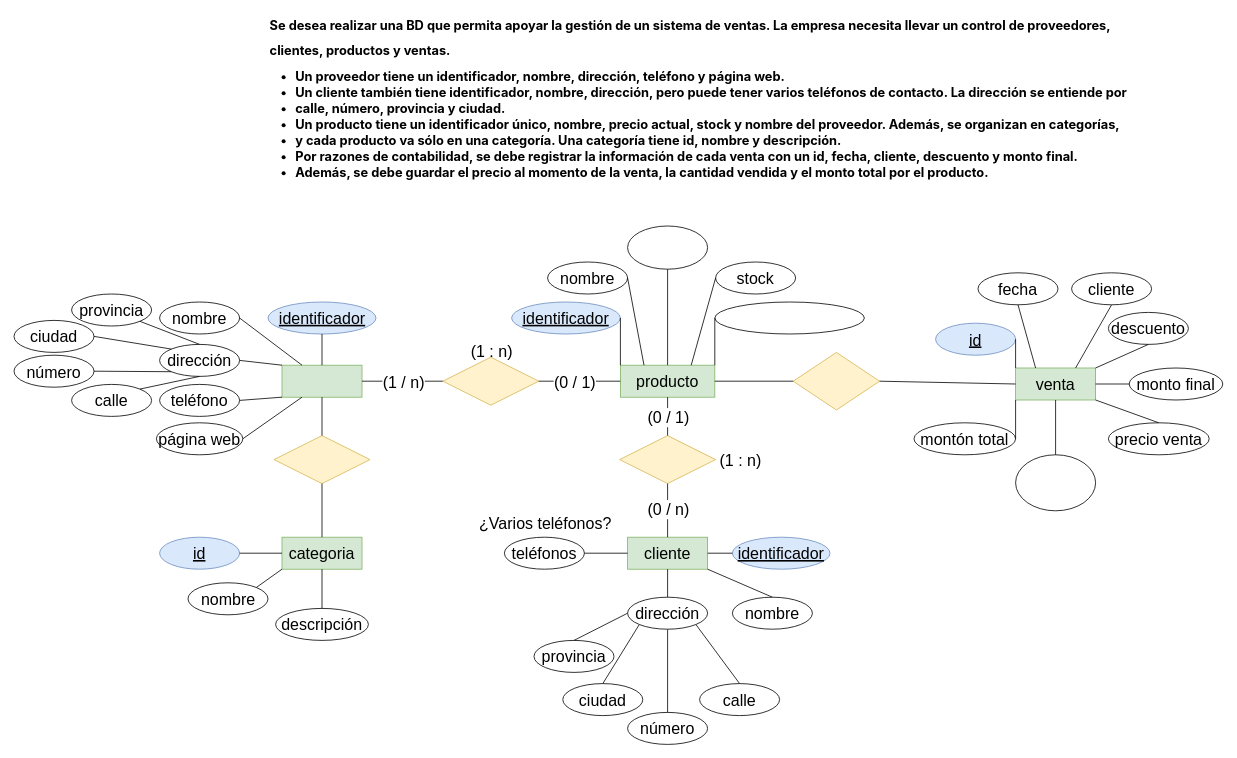
The diagram is 1237 pixels wide and 758 high, and some of its shapes have lost their labels. The box of each missing label's shape, as (x1, y1, x2, y2) in pixels:
calsifica: (273, 435, 370, 484)
cantidad vendida: (1015, 454, 1096, 511)
compra: (619, 435, 716, 484)
detalle: (792, 352, 880, 410)
nombre proveedor: (714, 301, 864, 334)
precio actual: (627, 225, 708, 269)
provee: (442, 356, 539, 405)
proveedor: (281, 364, 362, 397)
